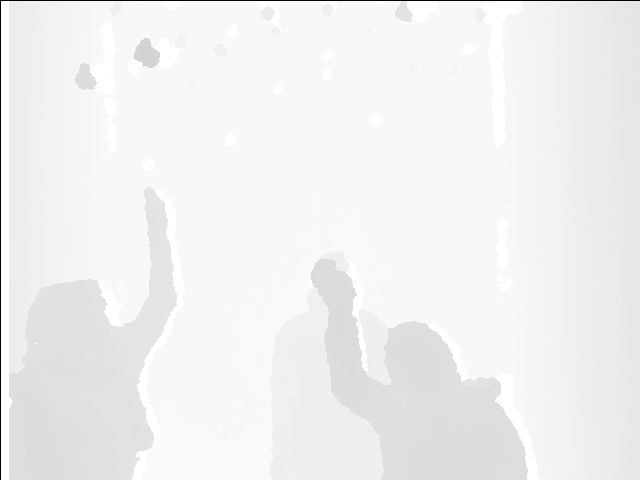hand: (310, 255, 355, 310), (140, 184, 176, 239)
